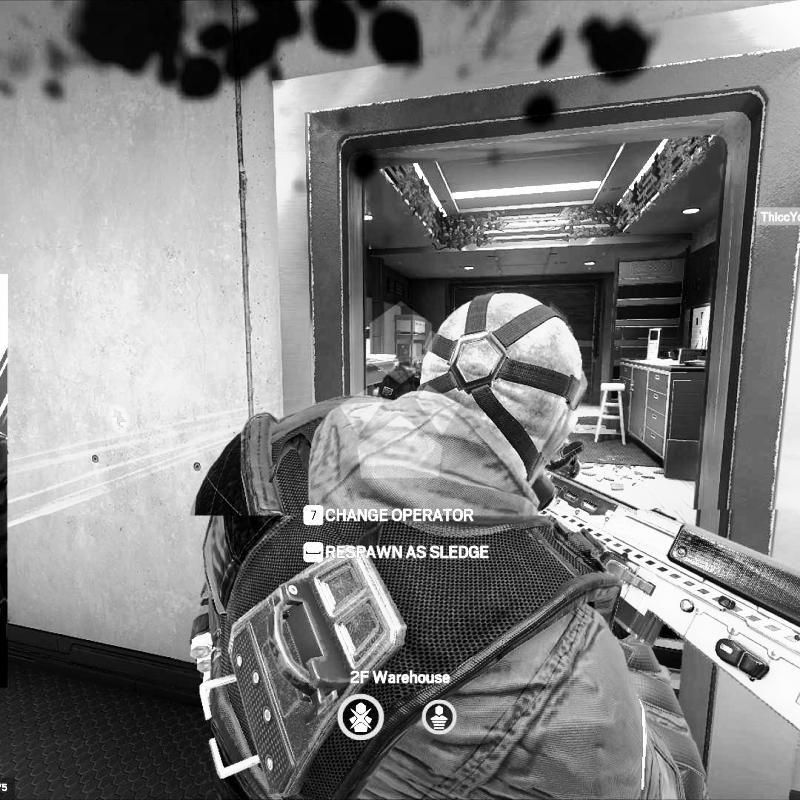Character: (185, 278, 713, 800)
Head: (418, 288, 587, 476)
